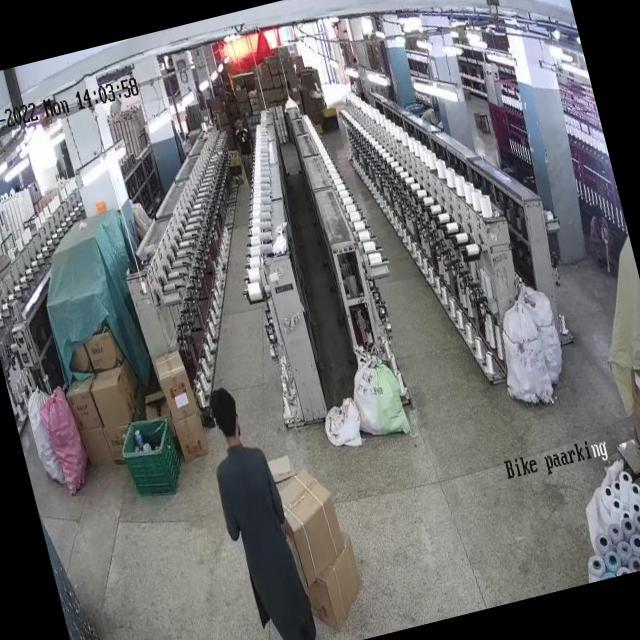person: (200, 381, 327, 640), (230, 113, 258, 170)
